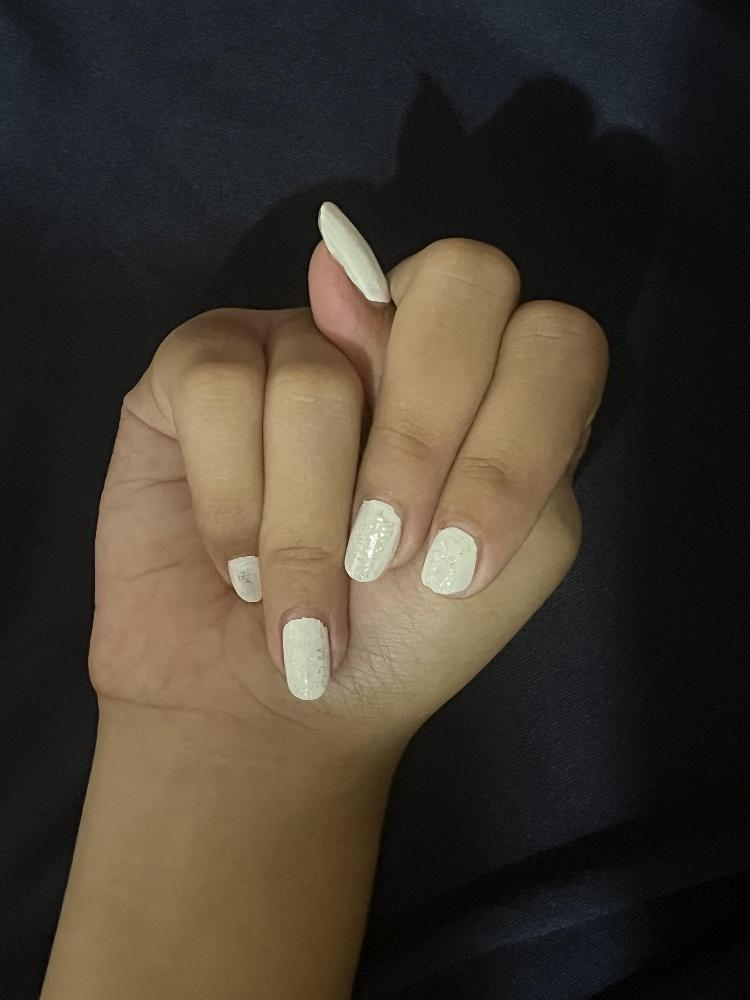n: (82, 217, 608, 732)
